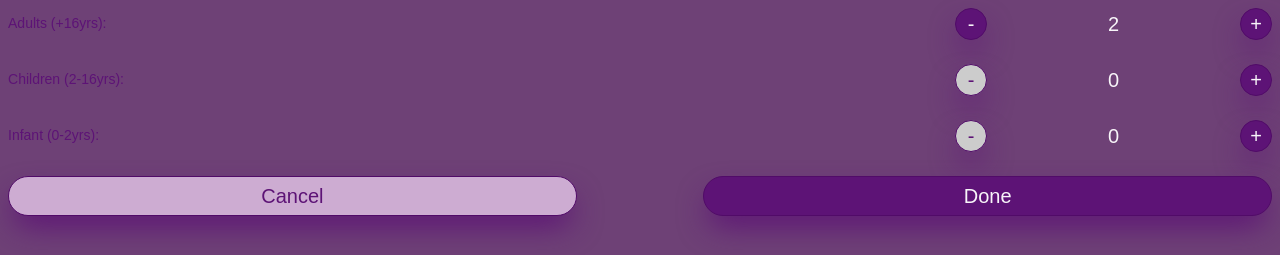
Test: PeopleDropdown Component › increases adult count
The width and height of the screenshot is (1280, 255).
Click the button "+" in the row of "Adults (+16yrs):" at {"x": 1256, "y": 24}, box [1240, 8, 1272, 40]
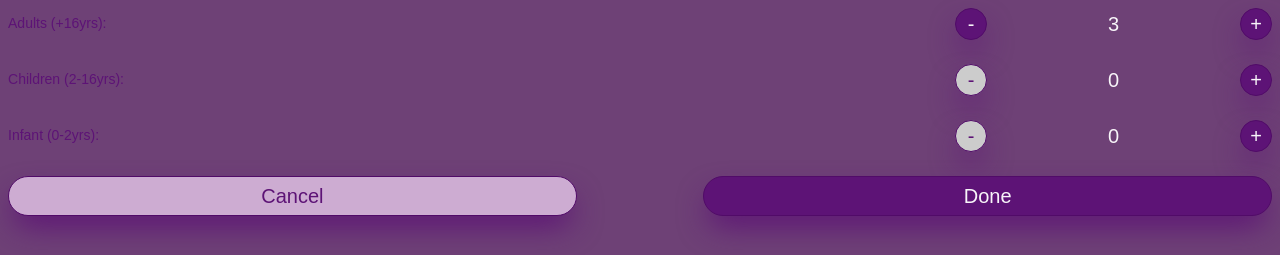
Expected: the text "3" is shown, [1108, 13, 1119, 35]
